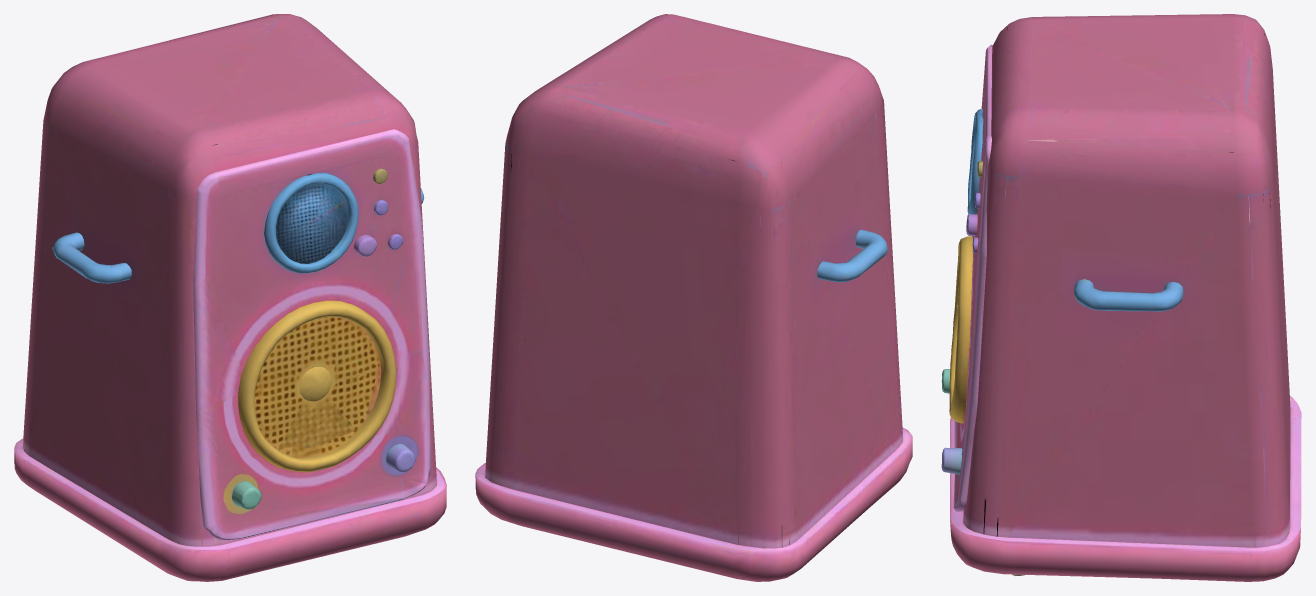
Rendered from club-speaker.glb.
The picture shows the model from 3 angles, left to right: view 1: azimuth 30°, elevation 25°; view 2: azimuth 150°, elevation 25°; view 3: azimuth 270°, elevation 25°; orthographic projection. The views are drawn at different scales.
Visible parts, largest first — view 1: geometry_0; view 2: geometry_0; view 3: geometry_0.
Boxes of the visible parts, box(x1,y1,x2,y2) form: geometry_0: box(14, 14, 446, 581); geometry_0: box(475, 14, 912, 581); geometry_0: box(941, 14, 1301, 581).
Bounding box in the file's own units: 0.8046 × 0.9981 × 0.7006.
1 material, 1 textured.
